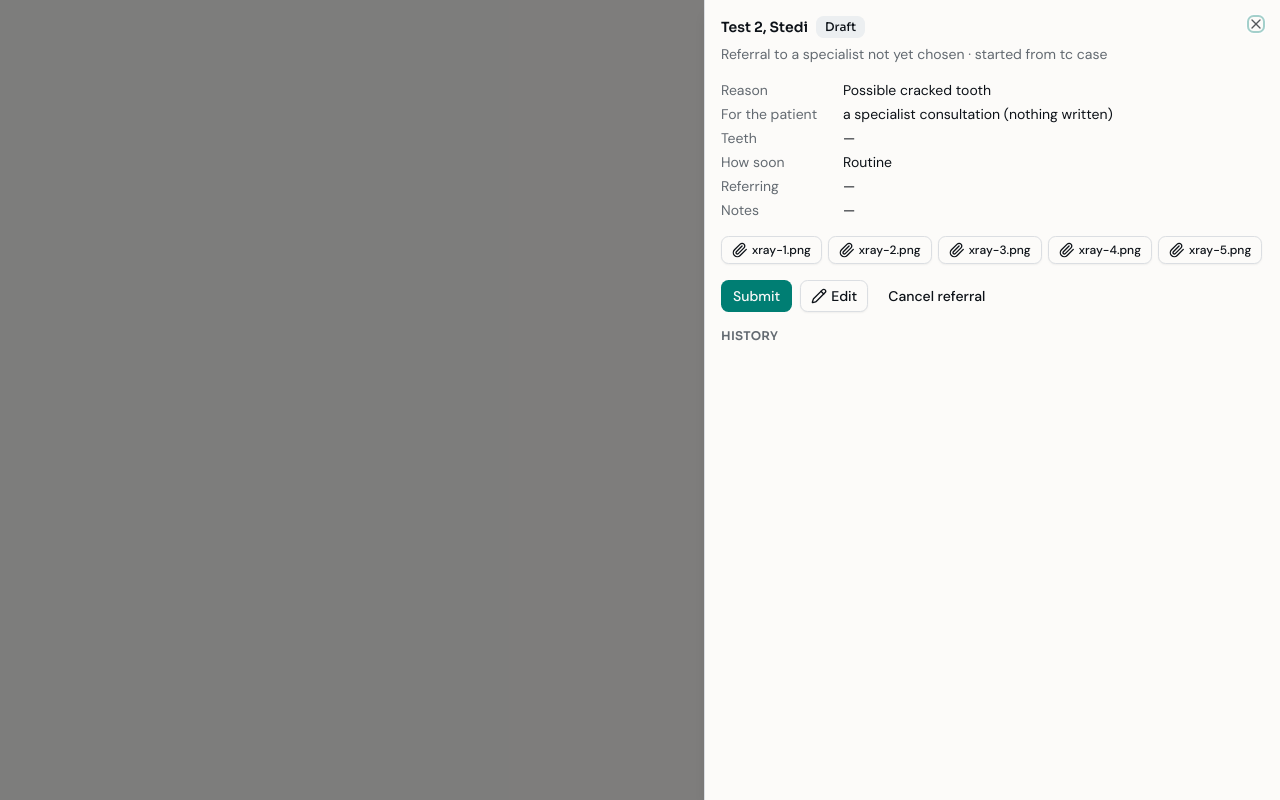
the hub's staff edit › the 5-file count includes what is already stored
Expected: the element with test id "tc-hub-actions" is shown, x1=721 y1=280 x2=997 y2=312
Expected: the button "xray-5.png" is shown, x1=1158 y1=236 x2=1262 y2=264
Step 1. Click the button "Edit" → (834, 296), box x1=800 y1=280 x2=868 y2=312
(page scrolled)
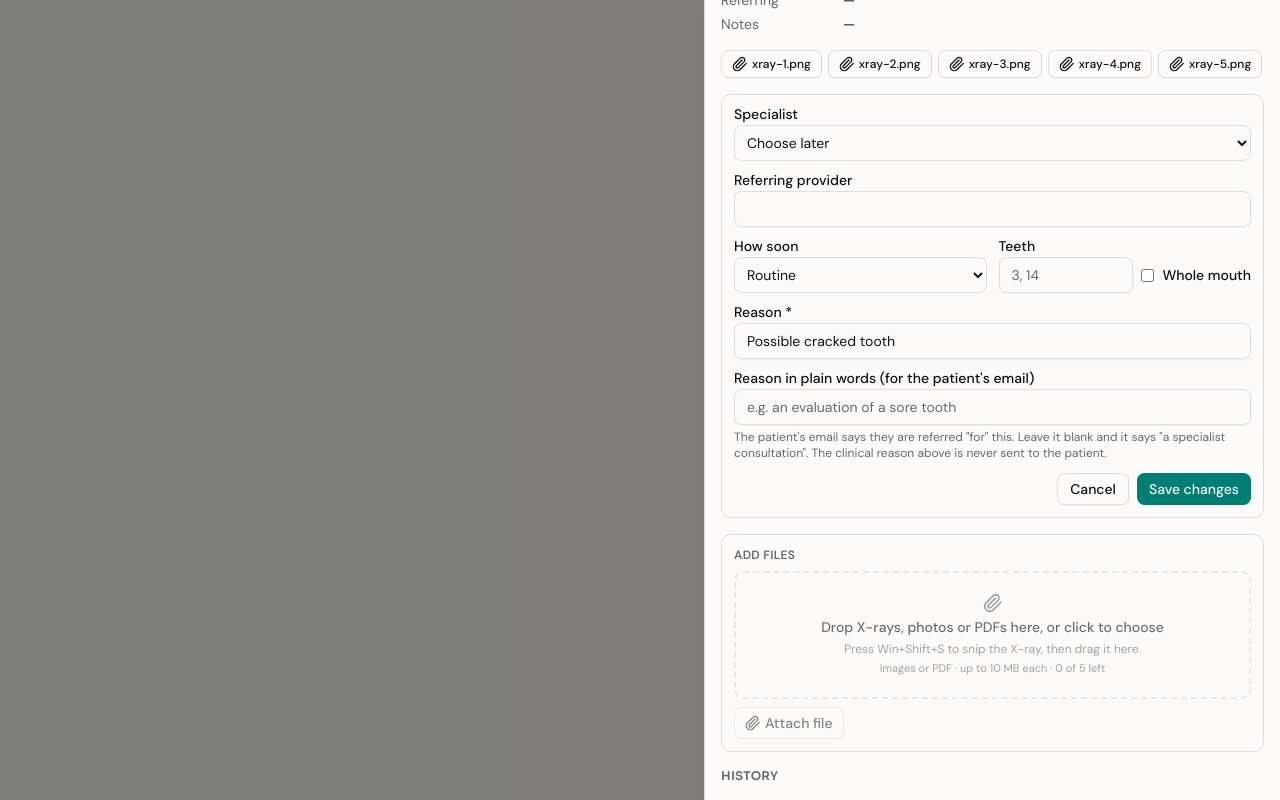
Result: the element with test id "referral-add-attachments" shows "0 of 5 left" at x1=721 y1=534 x2=1264 y2=752
